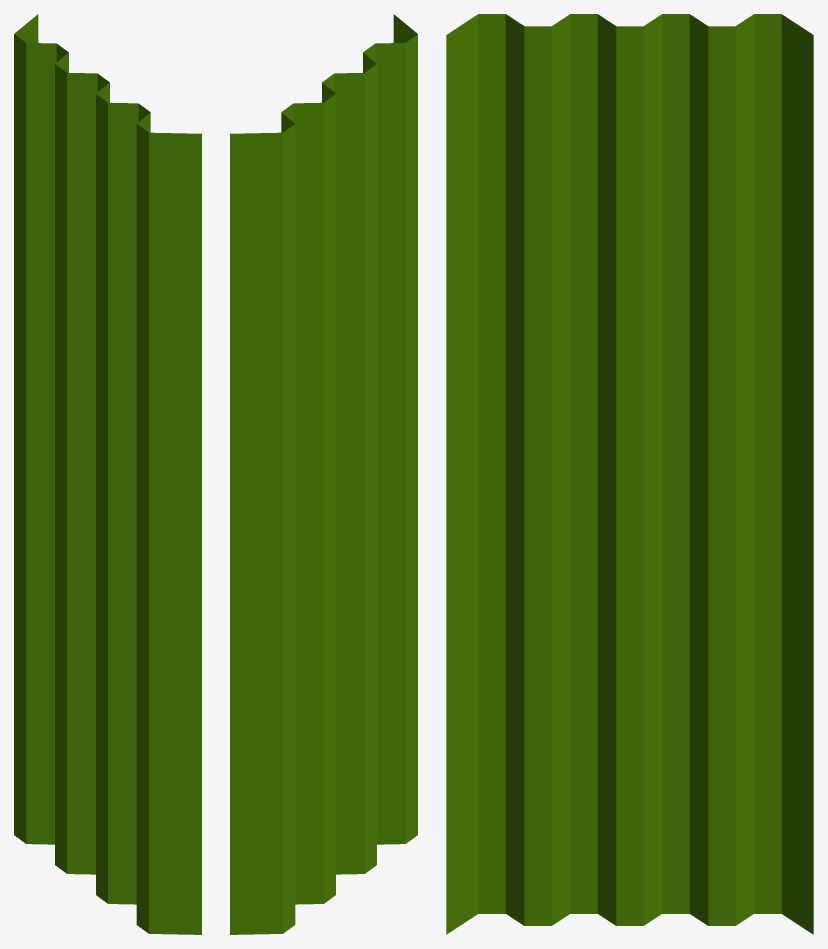
File: SM_Tole2.fbx
3 views of the same model, side by side, from view 1: azimuth 30°, elevation 25°; view 2: azimuth 150°, elevation 25°; view 3: azimuth 270°, elevation 25° (orthographic). The views are drawn at different scales.
Visible parts, largest first — view 1: Tole2; view 2: Tole2; view 3: Tole2.
Part boxes in pixels (left/top/right/bottom): Tole2: left=14, top=14, right=201, bottom=934; Tole2: left=230, top=14, right=417, bottom=934; Tole2: left=446, top=14, right=813, bottom=934.
Size of the model in its own units: 9.25 by 183 by 67.87.
